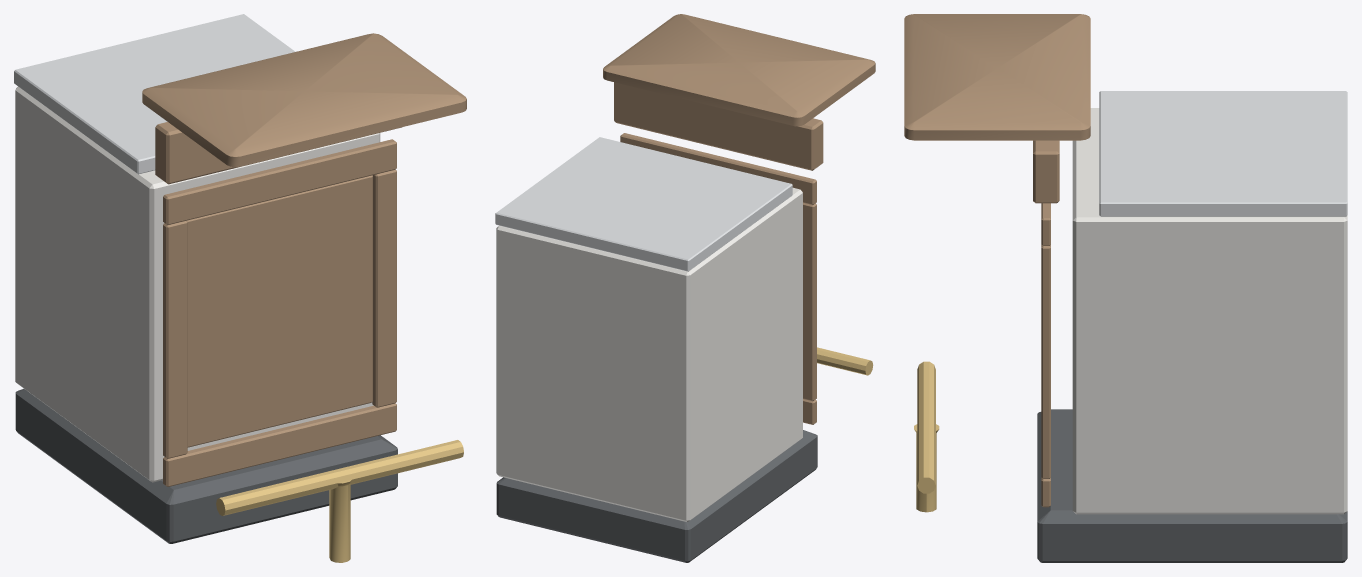
Rendered from restaurant-kitchen-and-dining-bar-counter-module-488ecf7d__16519.glb.
3 renders of one model, left to right at view 1: azimuth 30°, elevation 25°; view 2: azimuth 150°, elevation 25°; view 3: azimuth 270°, elevation 25°, orthographic. The views are drawn at different scales.
Parts seen in each view (by area): view 1: bar-counter-module; view 2: bar-counter-module; view 3: bar-counter-module.
Boxes of the visible parts, x1,y1,x2,y2 form: bar-counter-module: [14, 14, 466, 562]; bar-counter-module: [495, 14, 875, 562]; bar-counter-module: [904, 14, 1347, 562].
Bounding box in the file's own units: 0.62 × 1.09 × 1.
